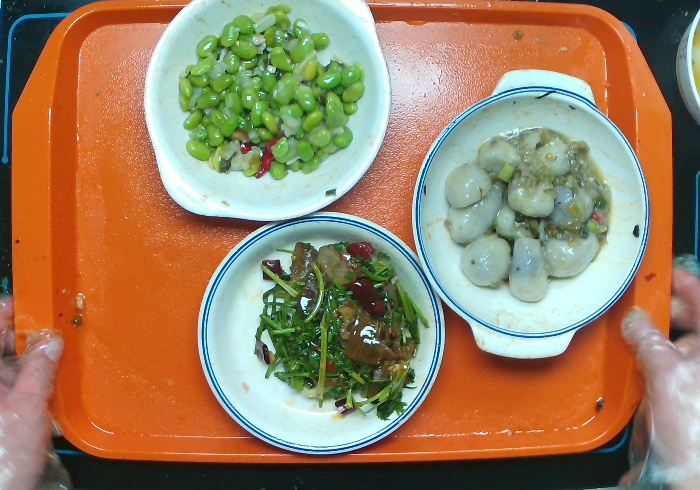HZYJPL-Dai_Er_Bai_Yuan_Wan: (138, 1, 394, 228)
HZYJPL-Lan_Bian_Dai_Er_Wan: (405, 63, 660, 369)
HZYJPL-Lan_Bian_Yuan_Die: (193, 195, 450, 462)
